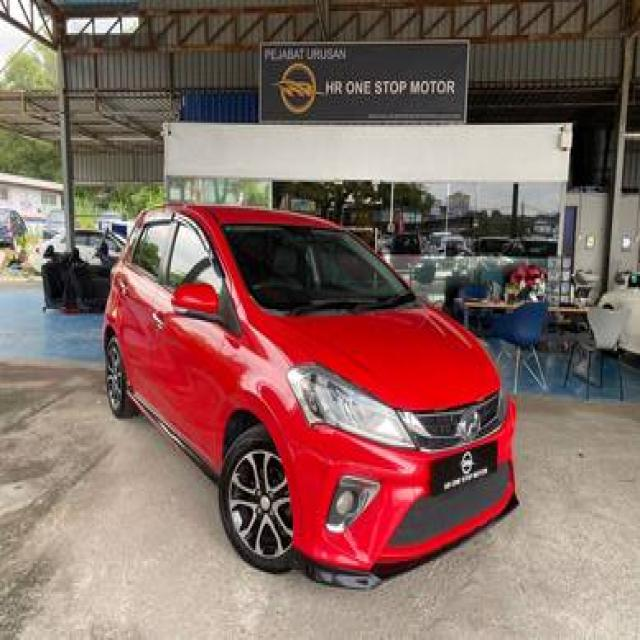PeroduaMyvi: (100, 197, 520, 590)
